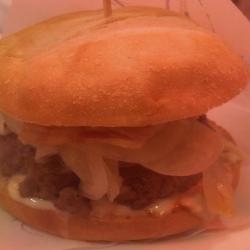burger: (2, 9, 242, 244)
